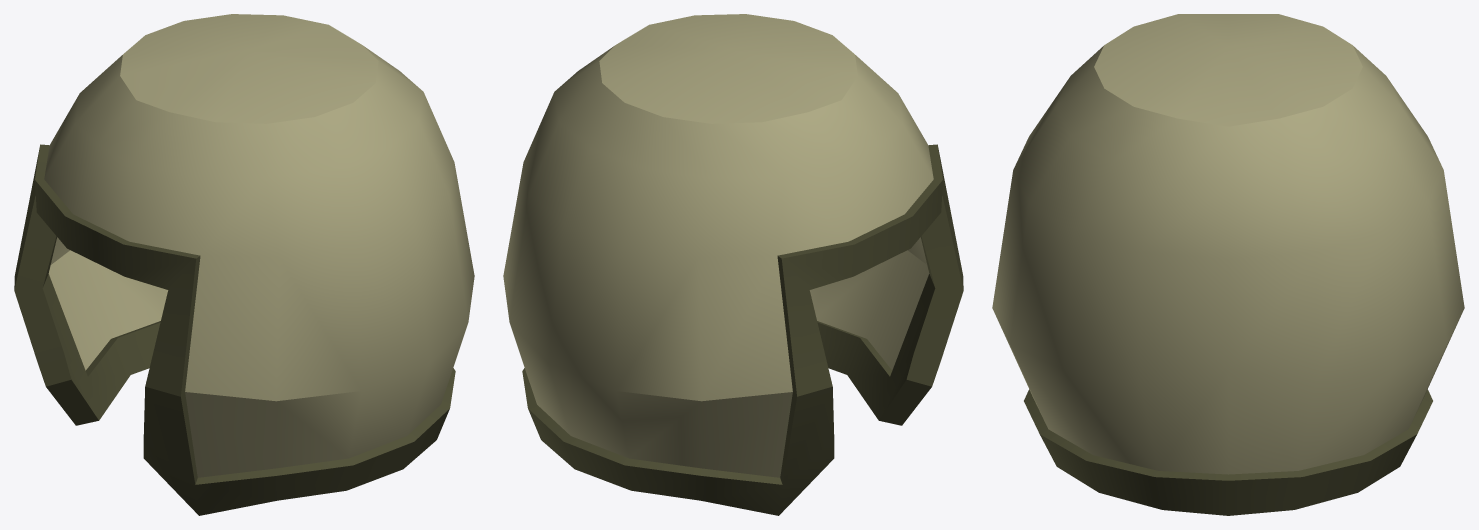
The model's file is Helmet06.fbx.
The picture shows the model from 3 angles, left to right: view 1: azimuth 30°, elevation 25°; view 2: azimuth 150°, elevation 25°; view 3: azimuth 270°, elevation 25°; orthographic projection. The views are drawn at different scales.
Parts seen in each view (by area): view 1: Helmet06; view 2: Helmet06; view 3: Helmet06.
Part boxes in pixels (<box>): Helmet06: <box>14,14,474,515</box>; Helmet06: <box>503,14,963,515</box>; Helmet06: <box>992,14,1464,515</box>.
Bounding box in the file's own units: 0.9716 × 1.04 × 0.9831.
